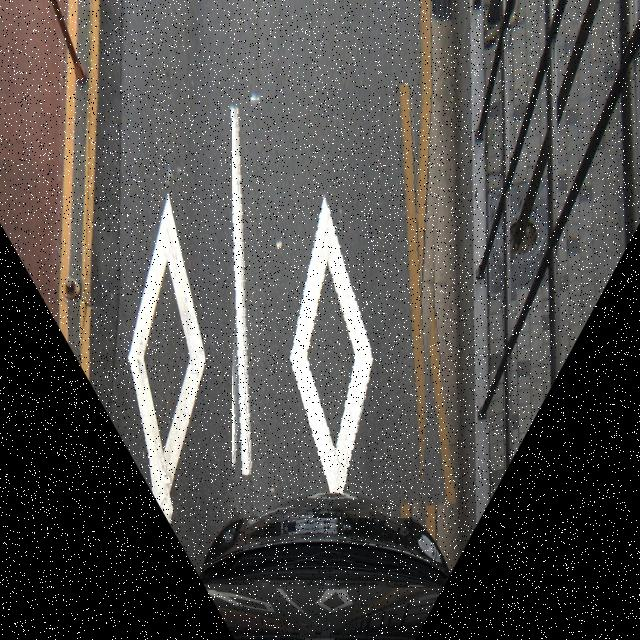diamond: (232, 88, 446, 519)
